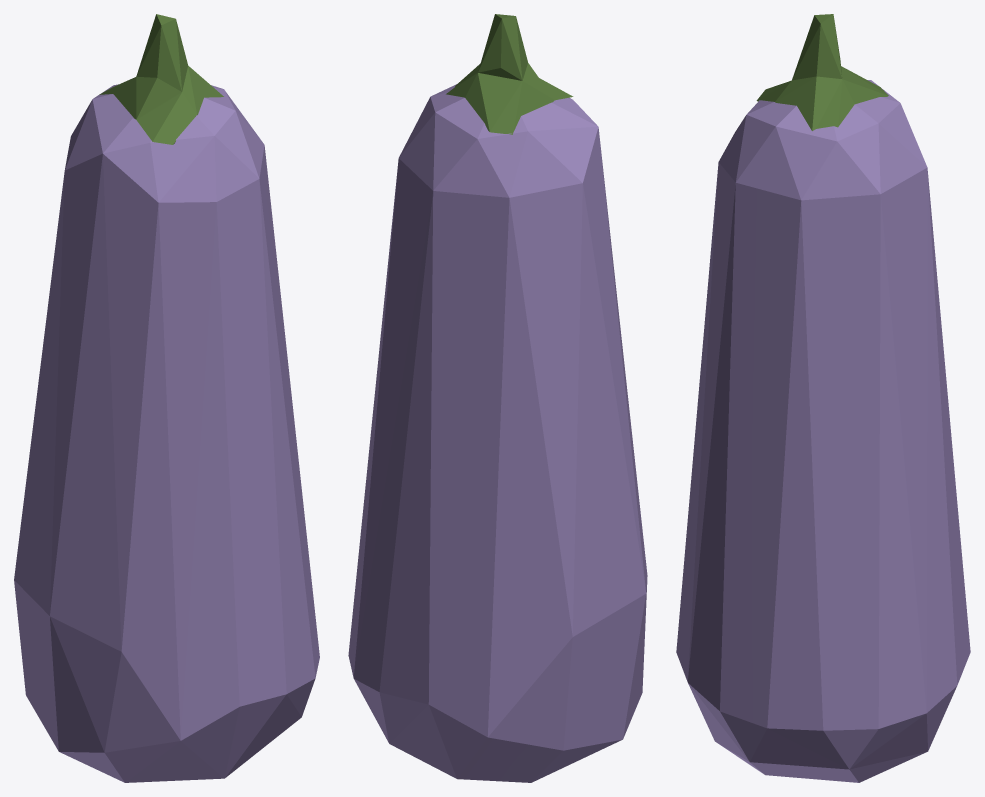
Rendered from Eggplant_01.fbx.
3 renders of one model, left to right at view 1: azimuth 30°, elevation 25°; view 2: azimuth 150°, elevation 25°; view 3: azimuth 270°, elevation 25°, orthographic.
Visible parts, largest first — view 1: Eggplant_01; view 2: Eggplant_01; view 3: Eggplant_01.
Part boxes in pixels (x1=…): Eggplant_01: x1=14, y1=14, x2=319, y2=782; Eggplant_01: x1=348, y1=14, x2=647, y2=782; Eggplant_01: x1=676, y1=14, x2=970, y2=782.
Size of the model in its own units: 7.84 by 20.8 by 7.55.
